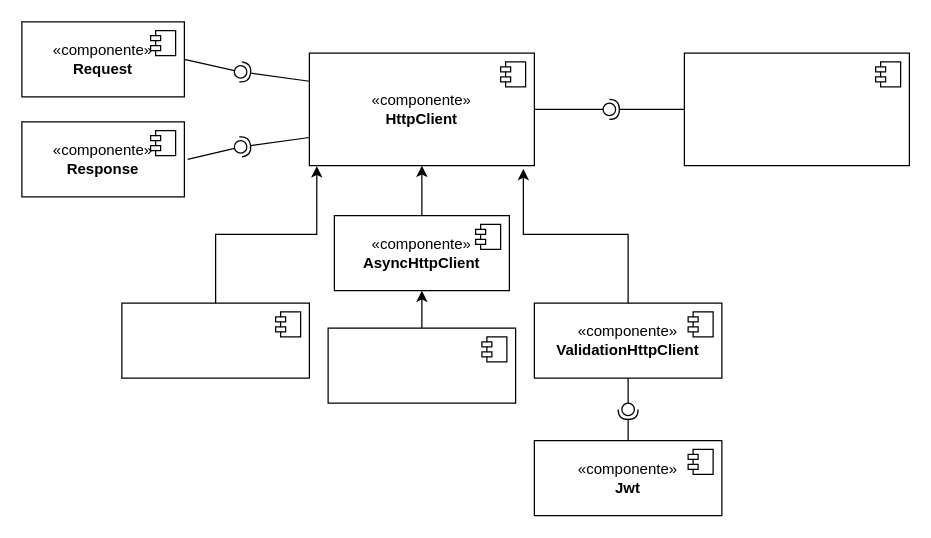
The diagram is 931 pixels wide and 538 high, and some of its shapes have lost their labels. Each missing label, with the centre of its shape:
"«componente» ClientBase" belongs at point (796, 109).
"«componente» TwilioAsyncHttpClient" belongs at point (421, 365).
"«componente» TwilioHttpClient" belongs at point (215, 340).
